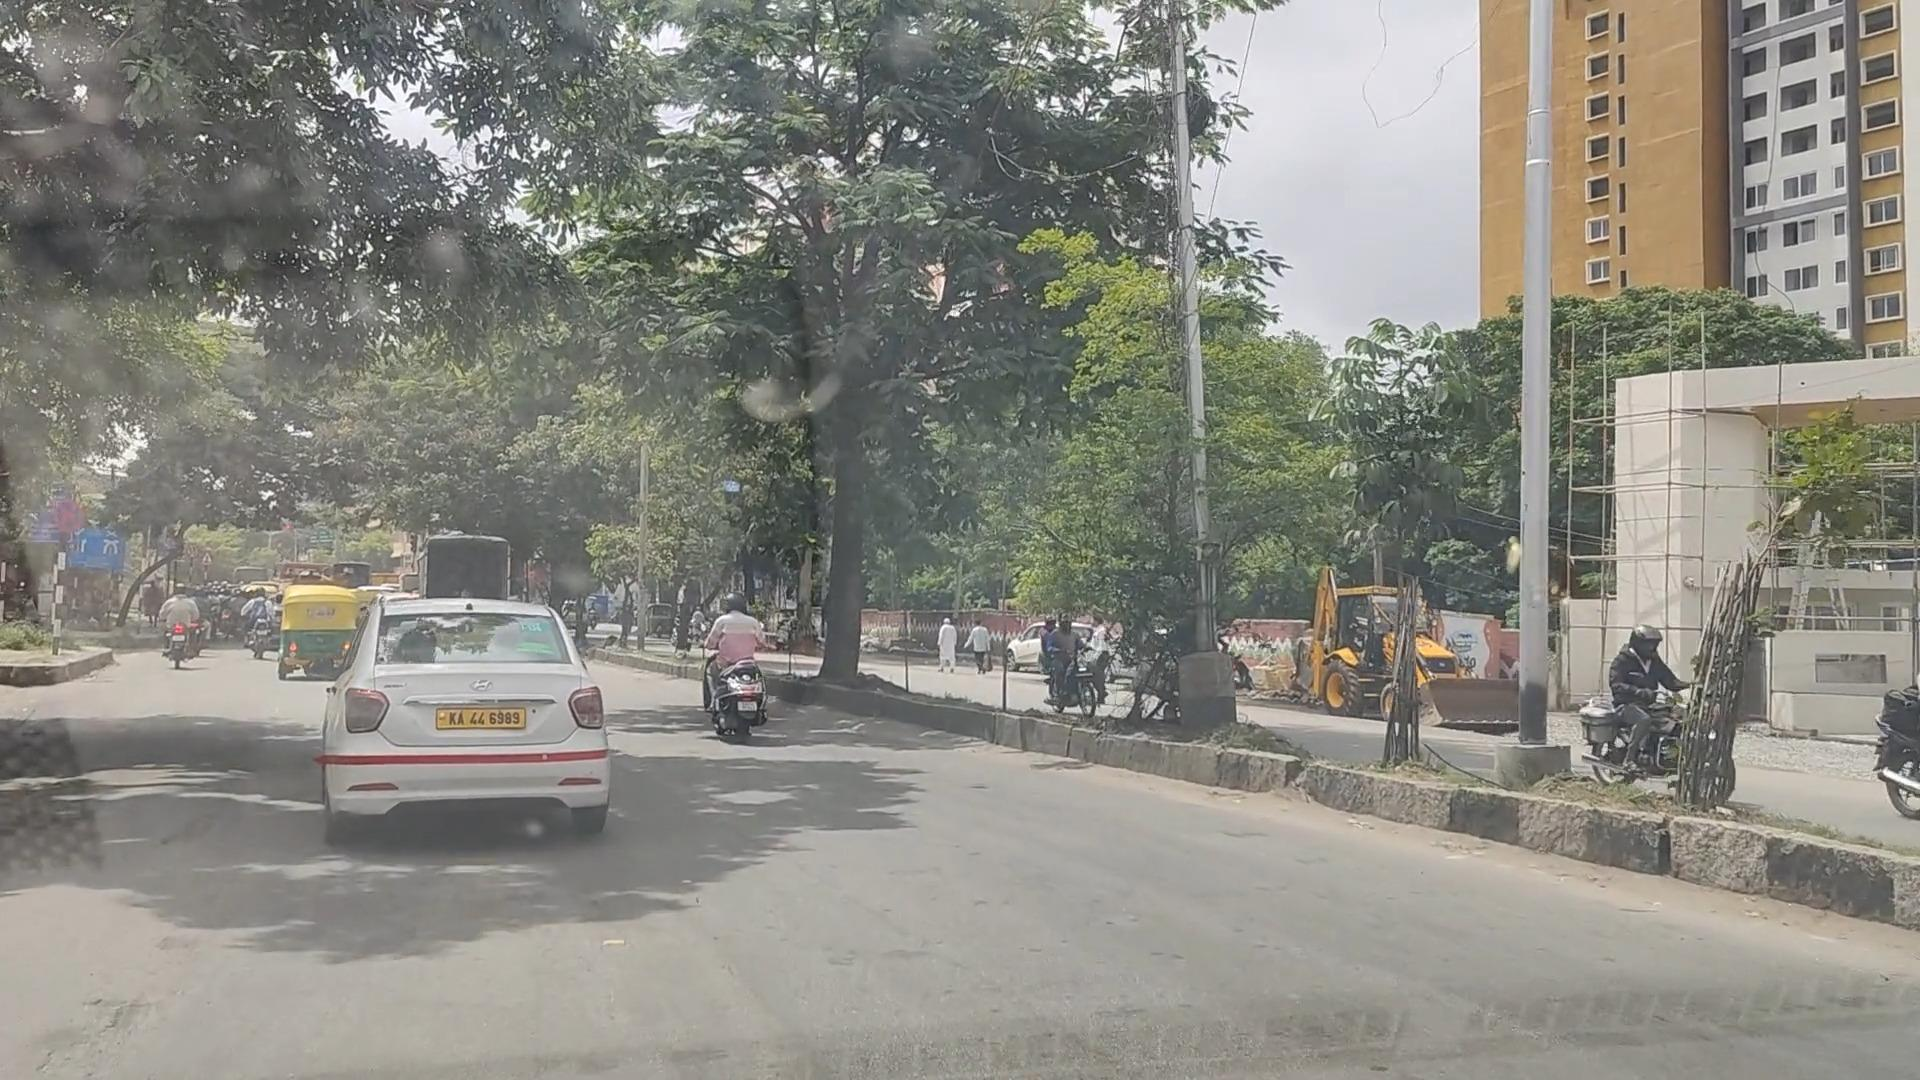LMV: (309, 587, 603, 840), (700, 550, 766, 733)
RoadDamages: (45, 886, 158, 1072)
